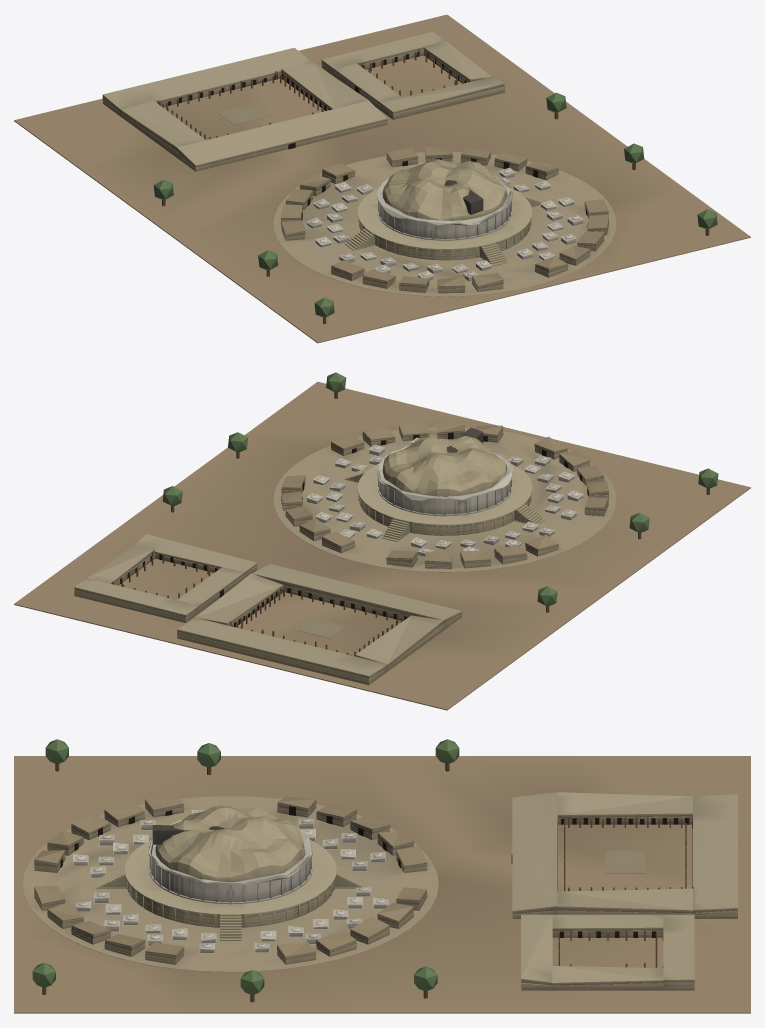
Rendered from dharmarajika-ruin.glb.
3 renders of one model, top to bottom at view 1: azimuth 30°, elevation 25°; view 2: azimuth 150°, elevation 25°; view 3: azimuth 270°, elevation 25°, orthographic. The views are drawn at different scales.
Parts seen in each view (by area): view 1: p0_court, p2_monastery, p1_great stupa, p3_trees; view 2: p0_court, p2_monastery, p1_great stupa, p3_trees; view 3: p0_court, p2_monastery, p1_great stupa, p3_trees.
Boxes of the visible parts, box(x1,y1,x2,y2) form: p0_court: box(14, 14, 750, 343); p2_monastery: box(102, 31, 608, 293); p1_great stupa: box(344, 159, 543, 266); p3_trees: box(153, 92, 717, 323); p0_court: box(14, 381, 750, 710); p2_monastery: box(74, 423, 608, 685); p1_great stupa: box(344, 427, 545, 541); p3_trees: box(162, 372, 718, 612); p0_court: box(14, 756, 750, 1013); p2_monastery: box(34, 792, 737, 990); p1_great stupa: box(96, 805, 364, 940); p3_trees: box(32, 739, 459, 1002).
Bounding box in the file's own units: 140 × 16.68 × 170.
